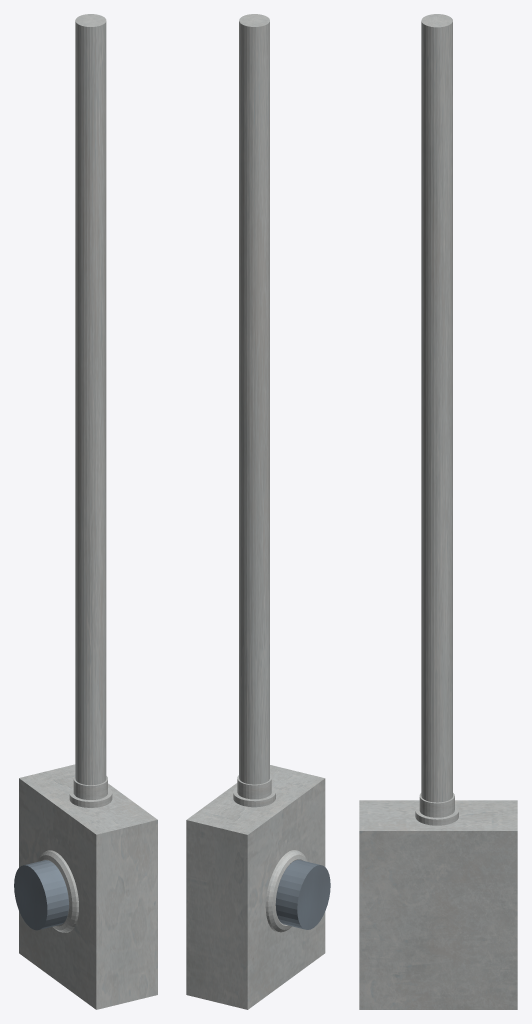
3 views of the same model, side by side, from view 1: azimuth 30°, elevation 25°; view 2: azimuth 150°, elevation 25°; view 3: azimuth 270°, elevation 25° (orthographic). The views are drawn at different scales.
Visible parts, largest first — view 1: Cube, 버튼; view 2: Cube, 버튼; view 3: Cube.
Part boxes in pixels (x1,y1,x2,y2): Cube: (19,14,157,1009); 버튼: (14,860,68,930); Cube: (186,14,325,1009); 버튼: (275,859,330,929); Cube: (359,14,517,1009).
Bounding box in the file's own units: 36.06 × 371 × 54.61.
2 materials, 2 textured.
